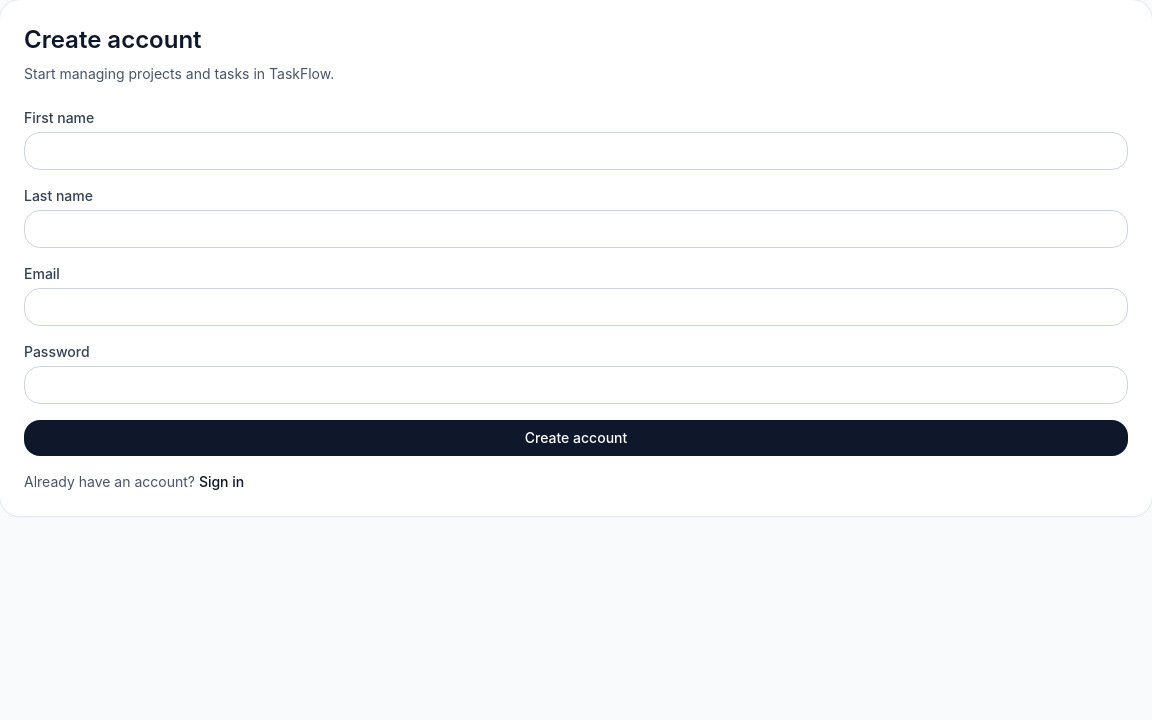
RegisterForm › shows duplicate email message on register conflict
Type "Jane" into the field labelled "First name".
click(576, 151); type("Jane")  # box [24, 132, 1128, 170]
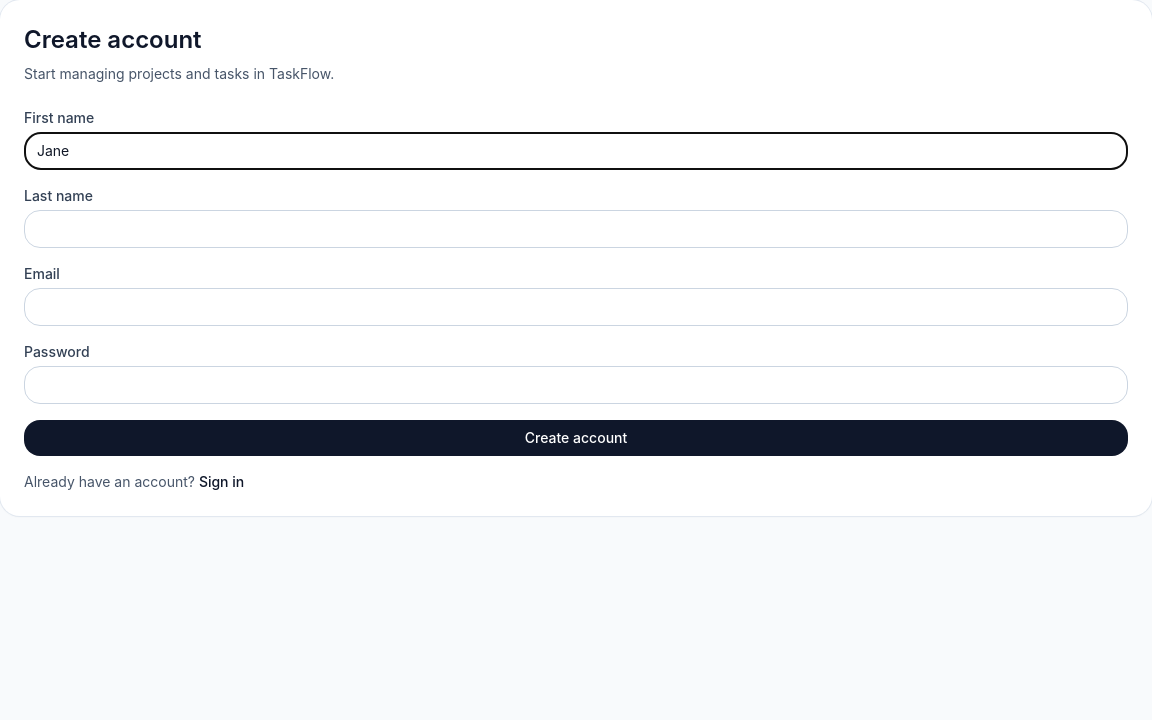
Type "Doe" into the field labelled "Last name".
click(576, 229); type("Doe")  # box [24, 210, 1128, 248]
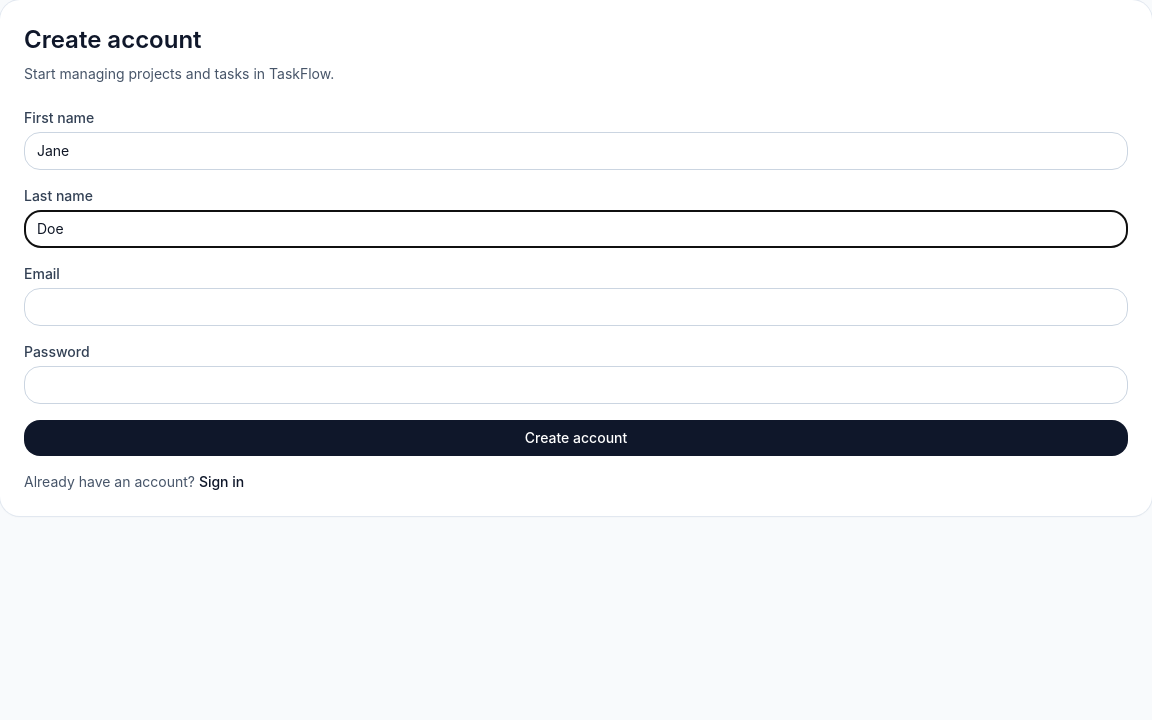
Type "jane@example.com" into the field labelled "Email".
click(576, 307); type("jane@example.com")  # box [24, 288, 1128, 326]
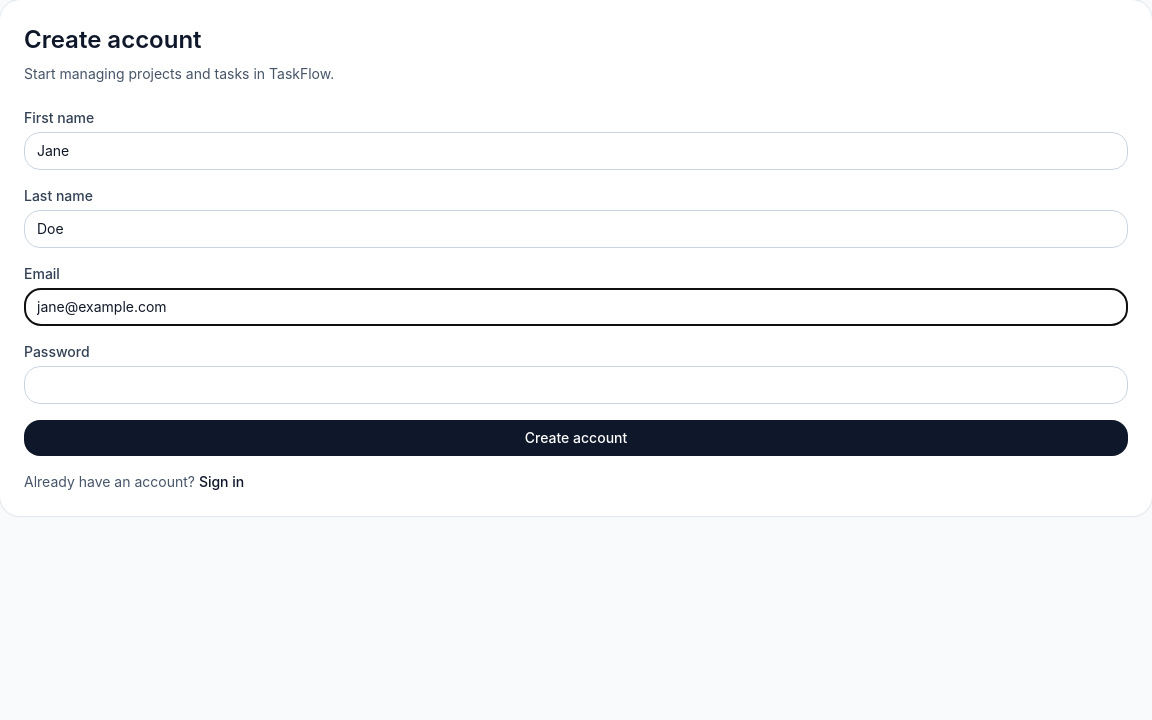
Type "Password123!" into the password field labelled "Password".
click(576, 385); type("Password123!")  # box [24, 366, 1128, 404]
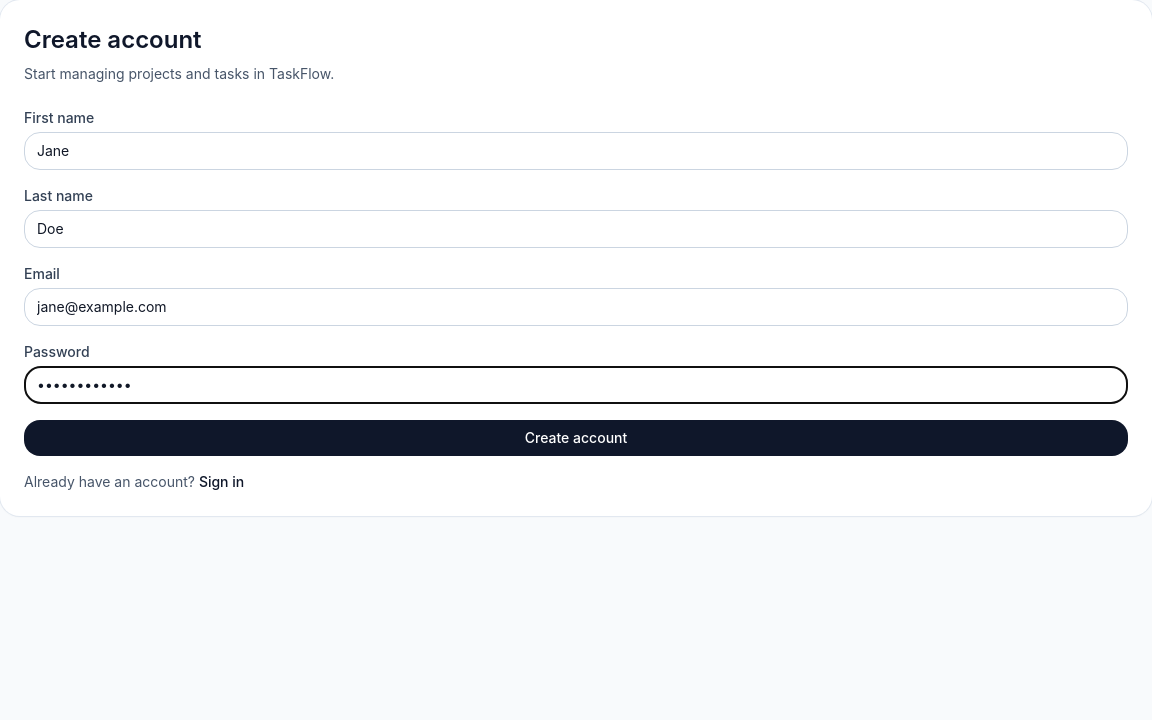
Click the button "Create account".
click(576, 438)  # box [24, 420, 1128, 456]
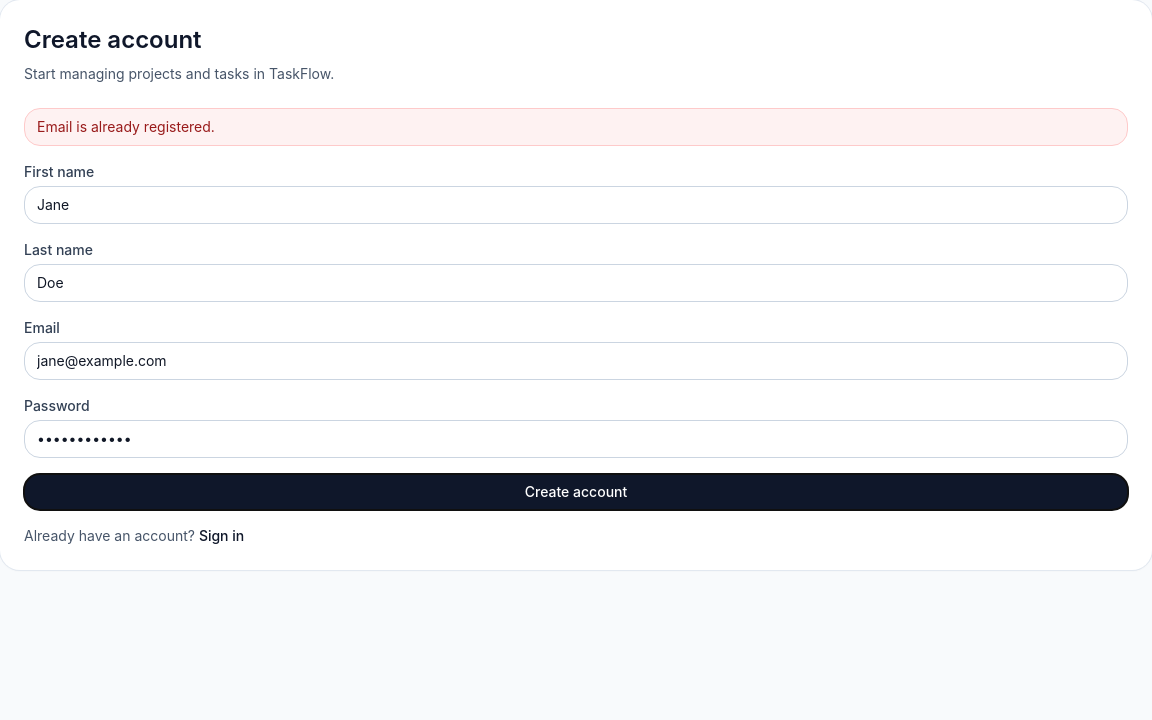
Result: the message reads "Email is already registered." at [37, 118, 215, 135]
